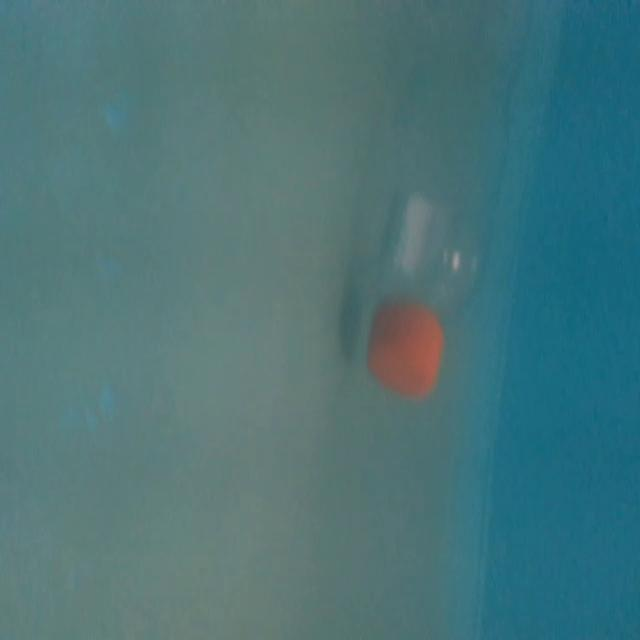plastic bottle: (359, 27, 513, 401)
